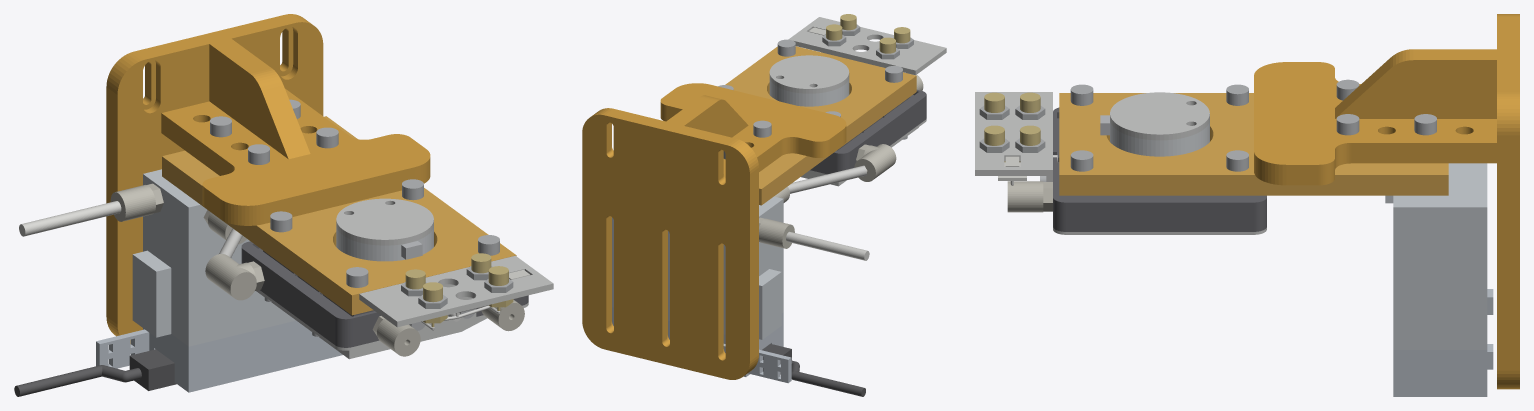
Rendered from v47_single.glb.
The picture shows the model from 3 angles, left to right: view 1: azimuth 30°, elevation 25°; view 2: azimuth 150°, elevation 25°; view 3: azimuth 270°, elevation 25°; orthographic projection. The views are drawn at different scales.
Visible parts, largest first — view 1: Grace 2025 앵글 브래킷 "angle bracket for Ramen holder.STEP" (형상 , [배기 블록 v2] 배기 센서 블록 본체 PETG 60x29x48.5 (가스 몸 17.5 + 센서 칸 31,, Grace 새 세로판 60x120x7 (재출력, 레진 가정), Ø4.5 x4 48x48, 가운데 Ø33 구멍, [배기 블록 v2] 덮개 PETG 60x29x16 (판 2 + Pico 트레이 14): Pico 보스 4, , 커넥터 브래킷 Al (밑판 26x18x2 + 판 57x24x2): SMA 구멍 Ø6.5 x6 (3열 x 2행, 셀 몸체 Al 6061 흑색 아노다이징 70x66x10 R4 (포켓 31x31x4.5 R1.5, 블록 자리 , 퍽 Al 방열 원판 Ø30.8x2 (가정, PETG 벽 끝에 2액형 에폭시), 나사 공구 구멍 Ø3.2 x2, [배기 블록 v2] USB 케이블 (노트북으로, 타이로 선반에 고정; 노트북은 허치 안 가능), 가스 KQ2H04-M5 x2 윗면 (+X 입구, −X 예비 N2/He), Ø2 → 앞면 (±19, +22), 가스 KQ2L04-M5 엘보 −X 옆면 출구 (Y 4.5, Z -20, 관 포트 아래로; 외형 가정), Ø2, SMA 암 판넬 잭 x4 (SAMZO SMA-KY-214형, 가정): 육각 어깨 AF 8 x 3 (판 앞),, M4x12 렌치볼트 x4 (판 뒤에서 몸체 M4 탭으로, 머리 Ø7x4) (+6 smaller); view 2: Grace 2025 앵글 브래킷 "angle bracket for Ramen holder.STEP" (형상 , Grace 새 세로판 60x120x7 (재출력, 레진 가정), Ø4.5 x4 48x48, 가운데 Ø33 구멍, 커넥터 브래킷 Al (밑판 26x18x2 + 판 57x24x2): SMA 구멍 Ø6.5 x6 (3열 x 2행, [배기 블록 v2] 배기 센서 블록 본체 PETG 60x29x48.5 (가스 몸 17.5 + 센서 칸 31,, 셀 몸체 Al 6061 흑색 아노다이징 70x66x10 R4 (포켓 31x31x4.5 R1.5, 블록 자리 , 퍽 Al 방열 원판 Ø30.8x2 (가정, PETG 벽 끝에 2액형 에폭시), 나사 공구 구멍 Ø3.2 x2, [배기 블록 v2] 덮개 PETG 60x29x16 (판 2 + Pico 트레이 14): Pico 보스 4, , 뒤 빛 퍽 PETG Ø30.8 (앞 플랜지 2 = 앞 턱 0.5 (Ø19) + 뒤 자리 Ø20.4x1.5, , [배기 블록 v2] USB 케이블 (노트북으로, 타이로 선반에 고정; 노트북은 허치 안 가능), 가스 KQ2L04-M5 엘보 −X 옆면 출구 (Y 4.5, Z -20, 관 포트 아래로; 외형 가정), Ø2, SMA 암 판넬 잭 x4 (SAMZO SMA-KY-214형, 가정): 육각 어깨 AF 8 x 3 (판 앞),, [배기 블록 v2] 배출 PU 관 Ø4 (토막만 그림, 실제 >= 300 mm) (+5 smaller); view 3: Grace 2025 앵글 브래킷 "angle bracket for Ramen holder.STEP" (형상 , Grace 새 세로판 60x120x7 (재출력, 레진 가정), Ø4.5 x4 48x48, 가운데 Ø33 구멍, [배기 블록 v2] 배기 센서 블록 본체 PETG 60x29x48.5 (가스 몸 17.5 + 센서 칸 31,, 셀 몸체 Al 6061 흑색 아노다이징 70x66x10 R4 (포켓 31x31x4.5 R1.5, 블록 자리 , [배기 블록 v2] 덮개 PETG 60x29x16 (판 2 + Pico 트레이 14): Pico 보스 4, , 커넥터 브래킷 Al (밑판 26x18x2 + 판 57x24x2): SMA 구멍 Ø6.5 x6 (3열 x 2행, 퍽 Al 방열 원판 Ø30.8x2 (가정, PETG 벽 끝에 2액형 에폭시), 나사 공구 구멍 Ø3.2 x2, M4x12 렌치볼트 x4 (판 뒤에서 몸체 M4 탭으로, 머리 Ø7x4), 뒤 빛 퍽 PETG Ø30.8 (앞 플랜지 2 = 앞 턱 0.5 (Ø19) + 뒤 자리 Ø20.4x1.5, , SMA 암 판넬 잭 x4 (SAMZO SMA-KY-214형, 가정): 육각 어깨 AF 8 x 3 (판 앞),, 가스 KQ2H04-M5 x2 윗면 (+X 입구, −X 예비 N2/He), Ø2 → 앞면 (±19, +22), M4x16 볼트 + 너트 x4 (판 아래 구멍 ↔ 브래킷 세움판 Ø5.6 구멍 y 29/53) (+2 smaller).
Boxes of the visible parts, x1,y1,x2,y2 form: Grace 2025 앵글 브래킷 "angle bracket for Ramen holder.STEP" (형상 : (106, 14, 430, 343); [배기 블록 v2] 배기 센서 블록 본체 PETG 60x29x48.5 (가스 몸 17.5 + 센서 칸 31,: (132, 169, 295, 346); Grace 새 세로판 60x120x7 (재출력, 레진 가정), Ø4.5 x4 48x48, 가운데 Ø33 구멍: (162, 116, 516, 315); [배기 블록 v2] 덮개 PETG 60x29x16 (판 2 + Pico 트레이 14): Pico 보스 4, : (96, 320, 342, 392); 커넥터 브래킷 Al (밑판 26x18x2 + 판 57x24x2): SMA 구멍 Ø6.5 x6 (3열 x 2행: (359, 255, 553, 333); 셀 몸체 Al 6061 흑색 아노다이징 70x66x10 R4 (포켓 31x31x4.5 R1.5, 블록 자리 : (241, 241, 528, 347); 퍽 Al 방열 원판 Ø30.8x2 (가정, PETG 벽 끝에 2액형 에폭시), 나사 공구 구멍 Ø3.2 x2: (336, 198, 433, 245); [배기 블록 v2] USB 케이블 (노트북으로, 타이로 선반에 고정; 노트북은 허치 안 가능): (14, 349, 176, 396); 가스 KQ2H04-M5 x2 윗면 (+X 입구, −X 예비 N2/He), Ø2 → 앞면 (±19, +22): (372, 299, 524, 356); 가스 KQ2L04-M5 엘보 −X 옆면 출구 (Y 4.5, Z -20, 관 포트 아래로; 외형 가정), Ø2: (205, 254, 264, 300); SMA 암 판넬 잭 x4 (SAMZO SMA-KY-214형, 가정): 육각 어깨 AF 8 x 3 (판 앞),: (405, 253, 513, 327); M4x12 렌치볼트 x4 (판 뒤에서 몸체 M4 탭으로, 머리 Ø7x4): (270, 179, 499, 287); Grace 2025 앵글 브래킷 "angle bracket for Ramen holder.STEP" (형상 : (582, 83, 846, 379); Grace 새 세로판 60x120x7 (재출력, 레진 가정), Ø4.5 x4 48x48, 가운데 Ø33 구멍: (725, 46, 916, 205); 커넥터 브래킷 Al (밑판 26x18x2 + 판 57x24x2): SMA 구멍 Ø6.5 x6 (3열 x 2행: (788, 17, 946, 75); [배기 블록 v2] 배기 센서 블록 본체 PETG 60x29x48.5 (가스 몸 17.5 + 센서 칸 31,: (612, 196, 783, 339); 셀 몸체 Al 6061 흑색 아노다이징 70x66x10 R4 (포켓 31x31x4.5 R1.5, 블록 자리 : (810, 89, 926, 174); 퍽 Al 방열 원판 Ø30.8x2 (가정, PETG 벽 끝에 2액형 에폭시), 나사 공구 구멍 Ø3.2 x2: (769, 55, 849, 93); [배기 블록 v2] 덮개 PETG 60x29x16 (판 2 + Pico 트레이 14): Pico 보스 4, : (612, 307, 791, 383); 뒤 빛 퍽 PETG Ø30.8 (앞 플랜지 2 = 앞 턱 0.5 (Ø19) + 뒤 자리 Ø20.4x1.5, : (769, 78, 849, 106); [배기 블록 v2] USB 케이블 (노트북으로, 타이로 선반에 고정; 노트북은 허치 안 가능): (762, 344, 865, 396); 가스 KQ2L04-M5 엘보 −X 옆면 출구 (Y 4.5, Z -20, 관 포트 아래로; 외형 가정), Ø2: (854, 144, 896, 181); SMA 암 판넬 잭 x4 (SAMZO SMA-KY-214형, 가정): 육각 어깨 AF 8 x 3 (판 앞),: (826, 14, 910, 67); [배기 블록 v2] 배출 PU 관 Ø4 (토막만 그림, 실제 >= 300 mm): (786, 231, 869, 260); Grace 2025 앵글 브래킷 "angle bracket for Ramen holder.STEP" (형상 : (1254, 14, 1519, 389); Grace 새 세로판 60x120x7 (재출력, 레진 가정), Ø4.5 x4 48x48, 가운데 Ø33 구멍: (1059, 93, 1448, 195); [배기 블록 v2] 배기 센서 블록 본체 PETG 60x29x48.5 (가스 몸 17.5 + 센서 칸 31,: (1385, 163, 1487, 349); 셀 몸체 Al 6061 흑색 아노다이징 70x66x10 R4 (포켓 31x31x4.5 R1.5, 블록 자리 : (1053, 107, 1266, 231); [배기 블록 v2] 덮개 PETG 60x29x16 (판 2 + Pico 트레이 14): Pico 보스 4, : (1393, 289, 1493, 396); 커넥터 브래킷 Al (밑판 26x18x2 + 판 57x24x2): SMA 구멍 Ø6.5 x6 (3열 x 2행: (975, 92, 1052, 181); 퍽 Al 방열 원판 Ø30.8x2 (가정, PETG 벽 끝에 2액형 에폭시), 나사 공구 구멍 Ø3.2 x2: (1110, 92, 1209, 140); M4x12 렌치볼트 x4 (판 뒤에서 몸체 M4 탭으로, 머리 Ø7x4): (1070, 84, 1248, 171); 뒤 빛 퍽 PETG Ø30.8 (앞 플랜지 2 = 앞 턱 0.5 (Ø19) + 뒤 자리 Ø20.4x1.5, : (1110, 120, 1209, 156); SMA 암 판넬 잭 x4 (SAMZO SMA-KY-214형, 가정): 육각 어깨 AF 8 x 3 (판 앞),: (984, 92, 1040, 162); 가스 KQ2H04-M5 x2 윗면 (+X 입구, −X 예비 N2/He), Ø2 → 앞면 (±19, +22): (1007, 181, 1052, 212); M4x16 볼트 + 너트 x4 (판 아래 구멍 ↔ 브래킷 세움판 Ø5.6 구멍 y 29/53): (1336, 79, 1436, 135).
Bounding box in the file's own units: 117 × 104 × 168.
